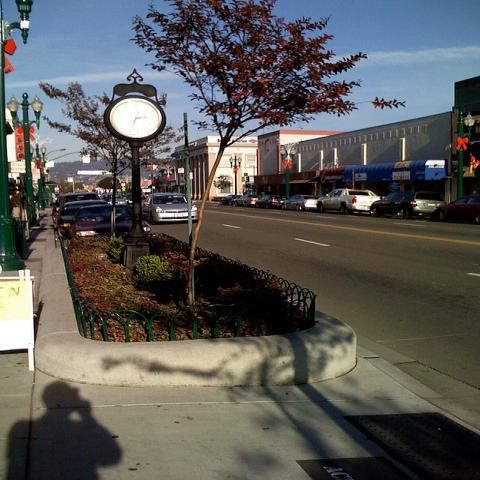car: (68, 202, 154, 240), (369, 191, 447, 219), (53, 199, 110, 236), (142, 193, 199, 224), (316, 187, 381, 214), (433, 195, 479, 225), (50, 192, 104, 216), (281, 194, 318, 212), (255, 194, 289, 208), (235, 193, 261, 207), (221, 195, 243, 206)
